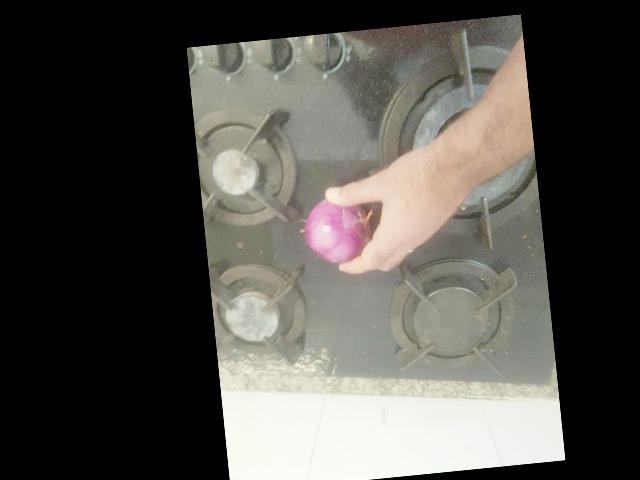onion: (275, 320, 331, 375)
